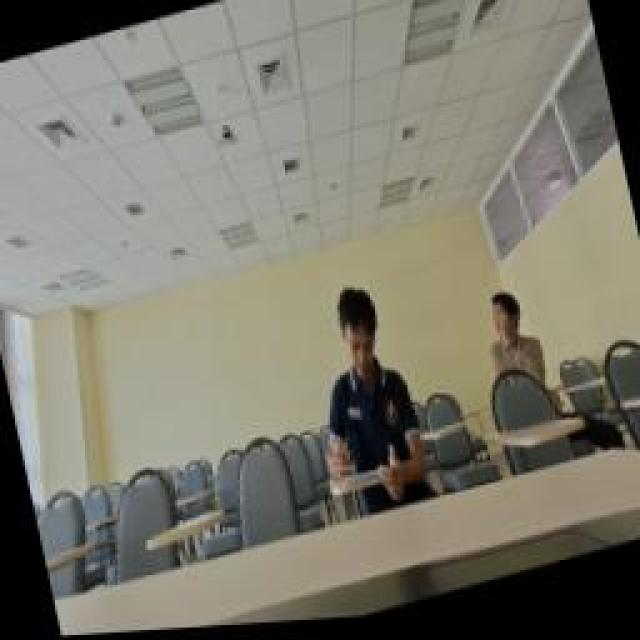study: (285, 262, 437, 532), (465, 275, 563, 440)
